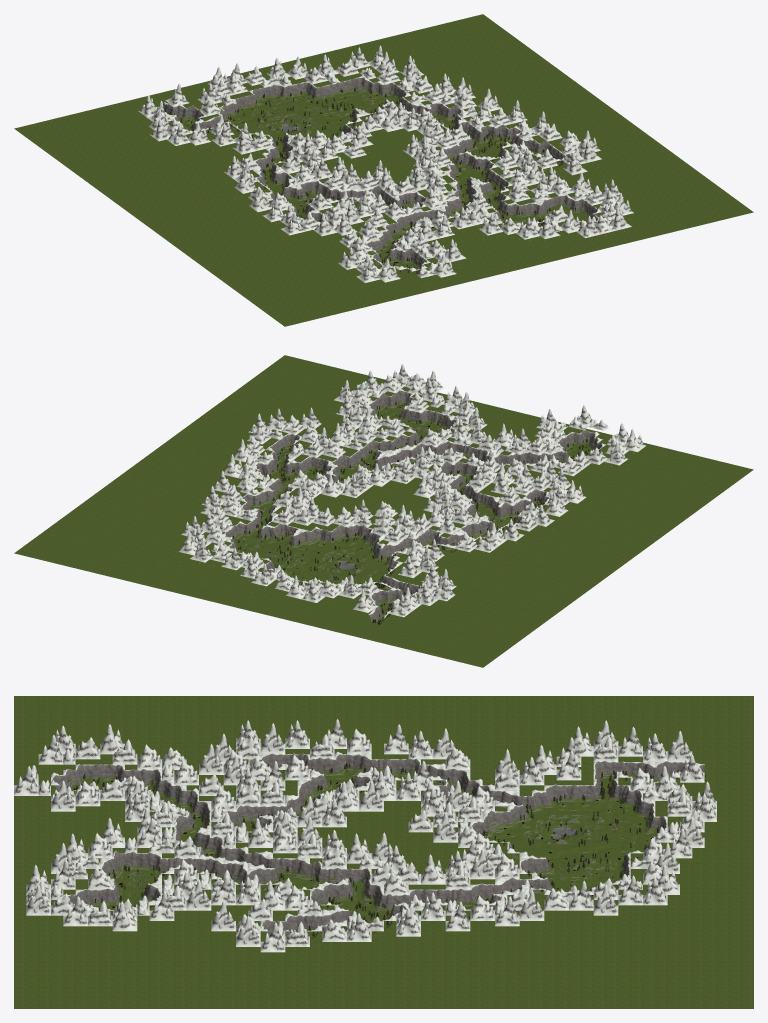
Rendered from map_F02_03.glb.
3 renders of one model, top to bottom at view 1: azimuth 30°, elevation 25°; view 2: azimuth 150°, elevation 25°; view 3: azimuth 270°, elevation 25°, orthographic. The views are drawn at different scales.
Parts seen in each view (by area): view 1: default_ground; view 2: default_ground; view 3: default_ground, FM_F02_lake01_AAA, FM_F02_mount01_AIA, FM_F02_mount01_AHA.
Boxes of the visible parts, bbox=[...] form: default_ground: bbox=[14, 14, 753, 326]; default_ground: bbox=[14, 355, 753, 667]; default_ground: bbox=[14, 696, 753, 1008]; FM_F02_lake01_AAA: bbox=[544, 824, 581, 840]; FM_F02_mount01_AIA: bbox=[285, 857, 309, 881]; FM_F02_mount01_AHA: bbox=[482, 809, 507, 834].
Bounding box in the file's own units: 2160 × 137 × 2160.
496 materials, 496 textured.
